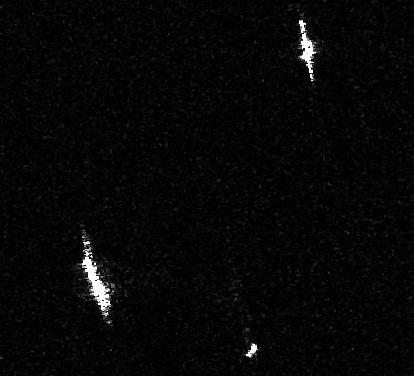ship: (76, 255, 117, 316), (295, 20, 319, 81), (245, 343, 258, 360)
